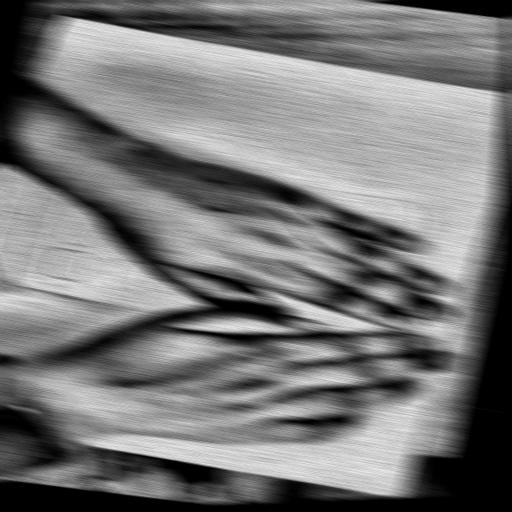bottom_right: (53, 10, 75, 21)
mobile: (0, 127, 473, 367)
top_left: (387, 491, 408, 497)
